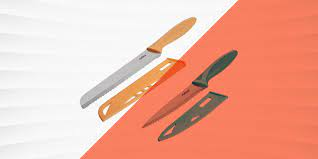breadknife: (77, 16, 198, 108), (142, 50, 240, 129)
